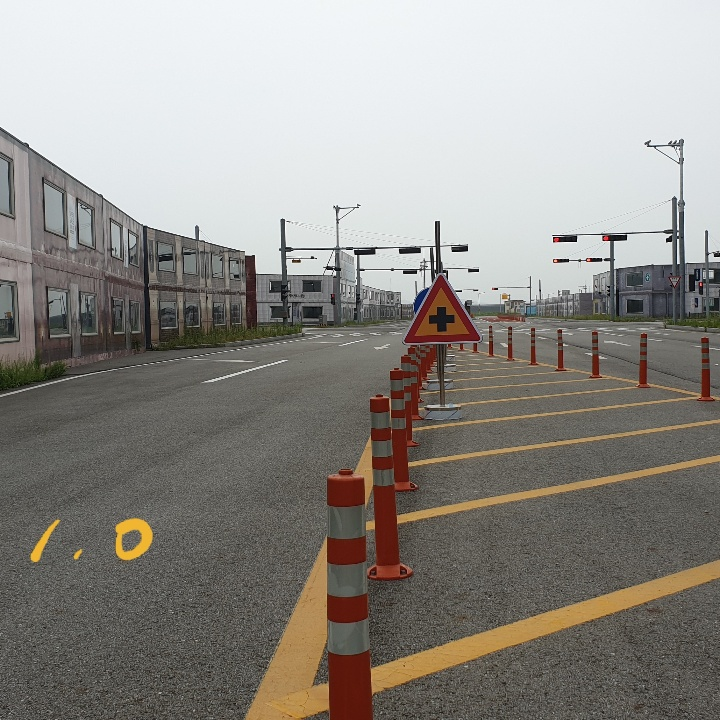inter: (423, 305, 458, 336)
